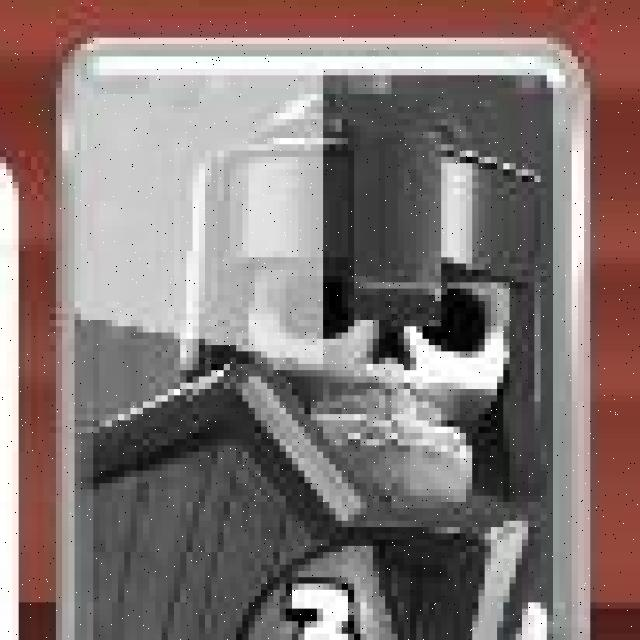Guards: (57, 32, 588, 640)
